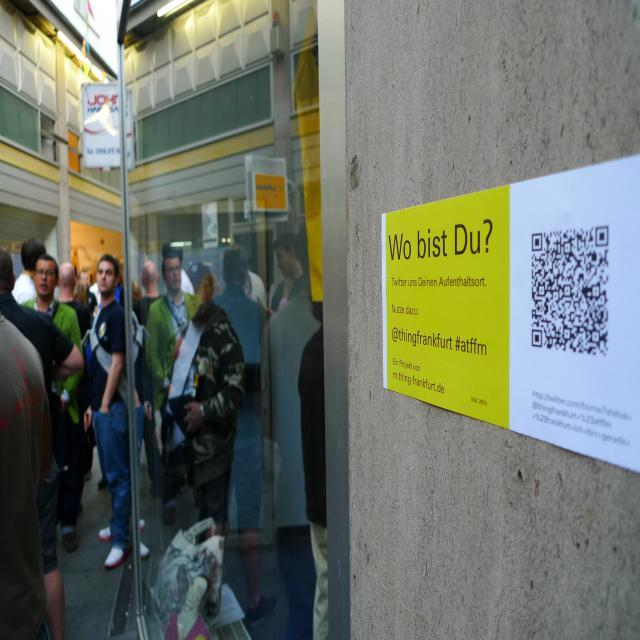qr_code: (531, 226, 608, 356)
